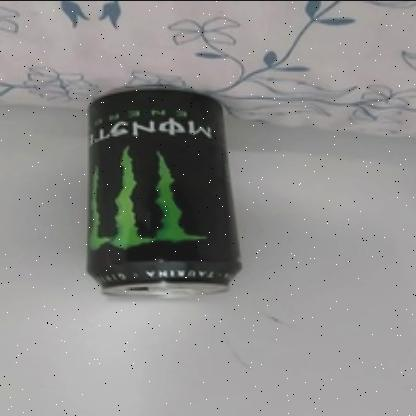Can: (84, 84, 242, 298)
